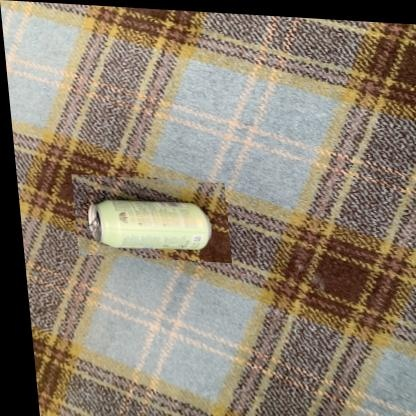trash: (88, 200, 211, 249)
